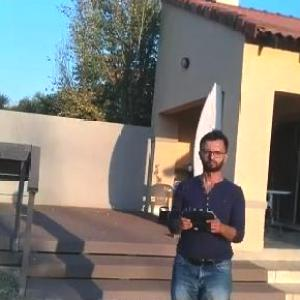follow: (160, 121, 251, 299)
